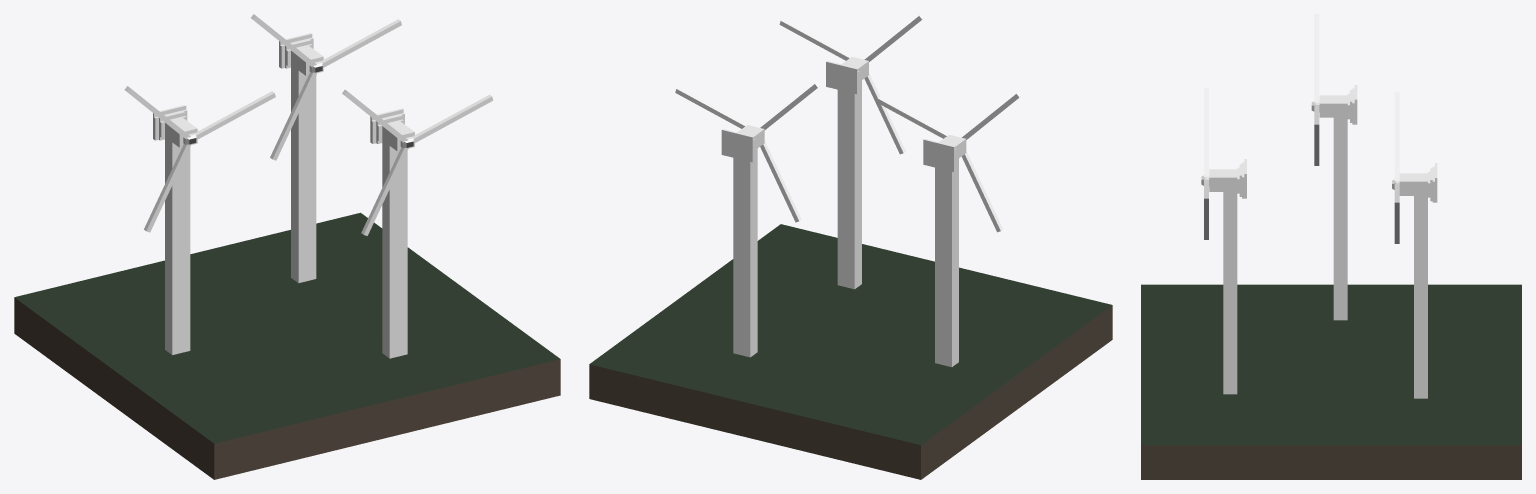
File: energy-wind.glb
3 renders of one model, left to right at view 1: azimuth 30°, elevation 25°; view 2: azimuth 150°, elevation 25°; view 3: azimuth 270°, elevation 25°, orthographic. The views are drawn at different scales.
Visible parts, largest first — view 1: Windfarm; view 2: Windfarm; view 3: Windfarm.
Part boxes in pixels (x1,y1,x2,y2): Windfarm: [14, 14, 560, 479]; Windfarm: [589, 14, 1112, 479]; Windfarm: [1141, 14, 1521, 479].
Size of the model in its own units: 1 by 0.8929 by 1.
